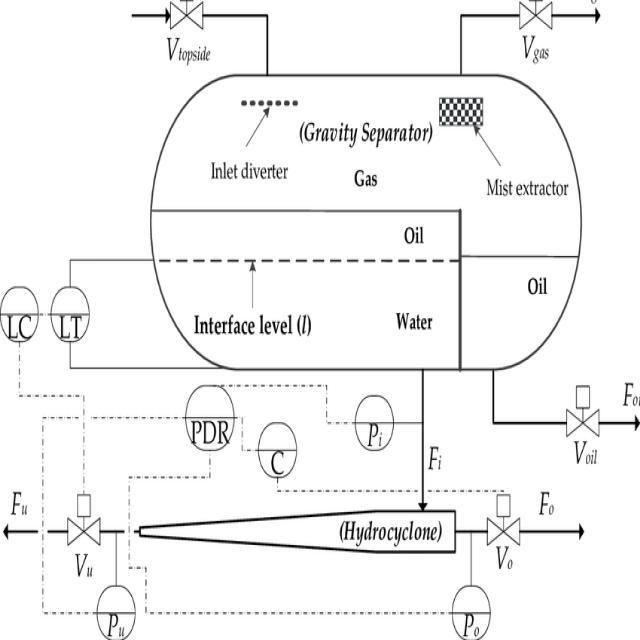Hand Operated Gate Valve: (503, 0, 561, 48), (151, 0, 210, 38)
Powered Gate Valve: (61, 482, 105, 553), (560, 382, 604, 440), (488, 482, 518, 546)
